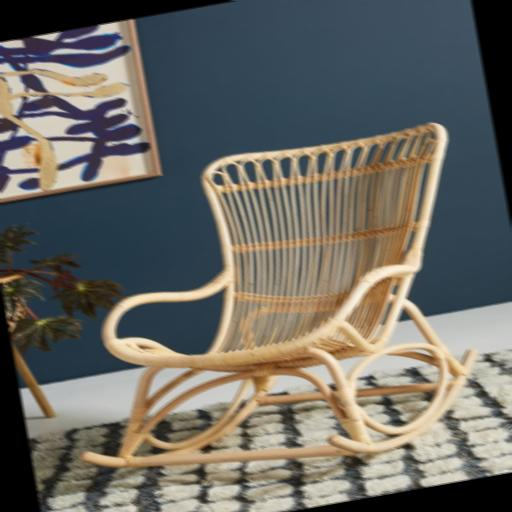chair: (34, 116, 500, 502)
wall: (0, 0, 512, 387)
